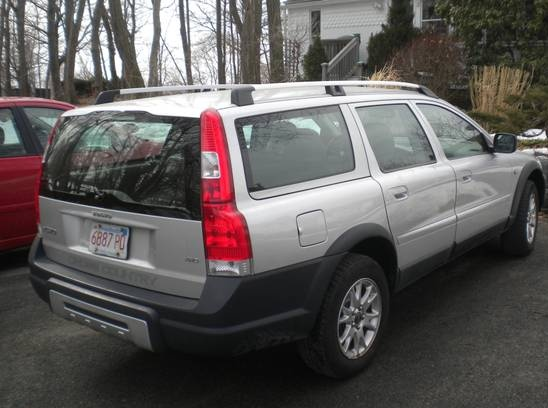volvo: (31, 71, 548, 384)
